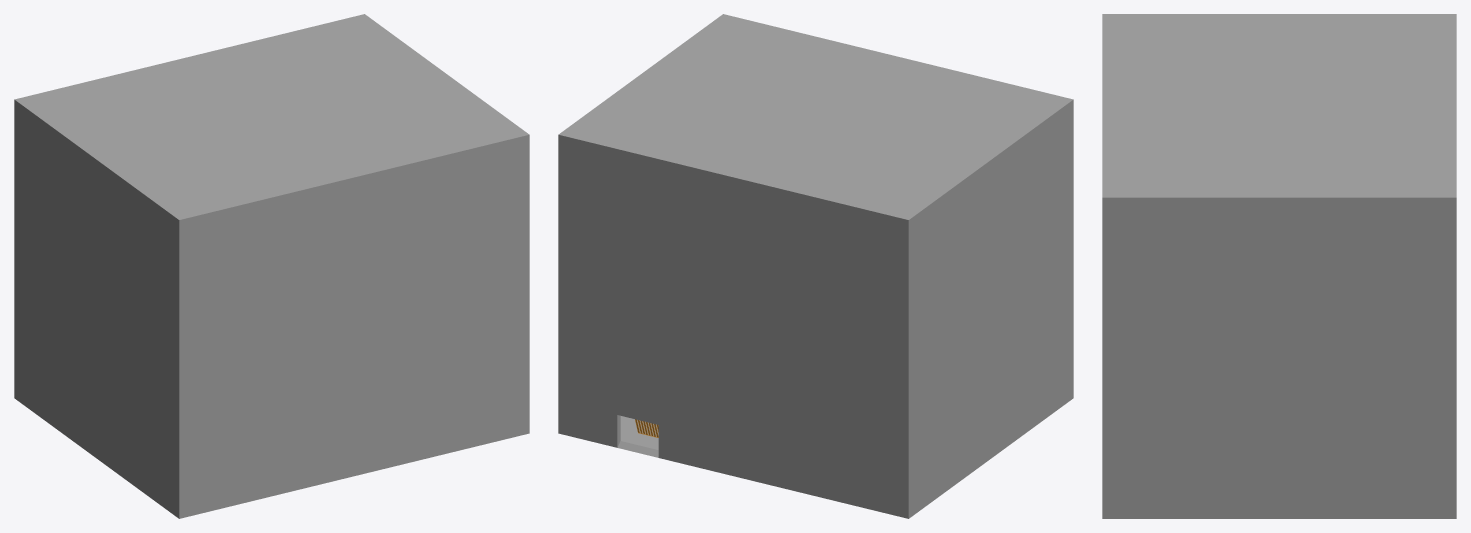
Rendered from tank system 1.fbx.
3 renders of one model, left to right at view 1: azimuth 30°, elevation 25°; view 2: azimuth 150°, elevation 25°; view 3: azimuth 270°, elevation 25°, orthographic. The views are drawn at different scales.
Visible parts, largest first — view 1: house; view 2: house; view 3: house.
Part boxes in pixels (x1=…): house: x1=14, y1=14, x2=529, y2=518; house: x1=558, y1=14, x2=1073, y2=518; house: x1=1102, y1=14, x2=1456, y2=518.
Bounding box in the file's own units: 29.33 × 23.9 × 23.9.
